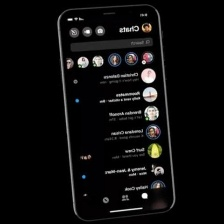phone: (53, 2, 179, 224)
